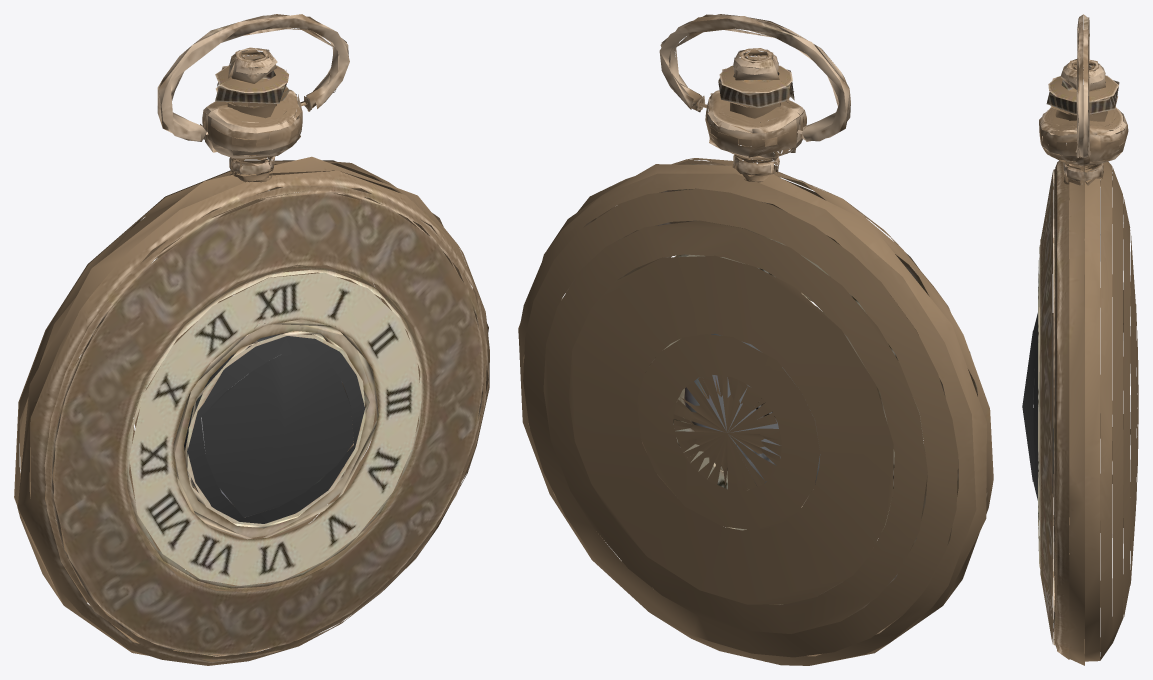
The model's file is x_pocket_watch.gltf.
3 views of the same model, side by side, from view 1: azimuth 30°, elevation 25°; view 2: azimuth 150°, elevation 25°; view 3: azimuth 270°, elevation 25° (orthographic). The views are drawn at different scales.
Parts seen in each view (by area): view 1: x_pocket_watch; view 2: x_pocket_watch; view 3: x_pocket_watch.
Boxes of the visible parts, bbox=[...] form: x_pocket_watch: bbox=[14, 14, 489, 665]; x_pocket_watch: bbox=[518, 14, 993, 665]; x_pocket_watch: bbox=[1022, 14, 1138, 665].
Bounding box in the file's own units: 0.0618 × 0.0803 × 0.0138.
3 materials, 1 textured.
